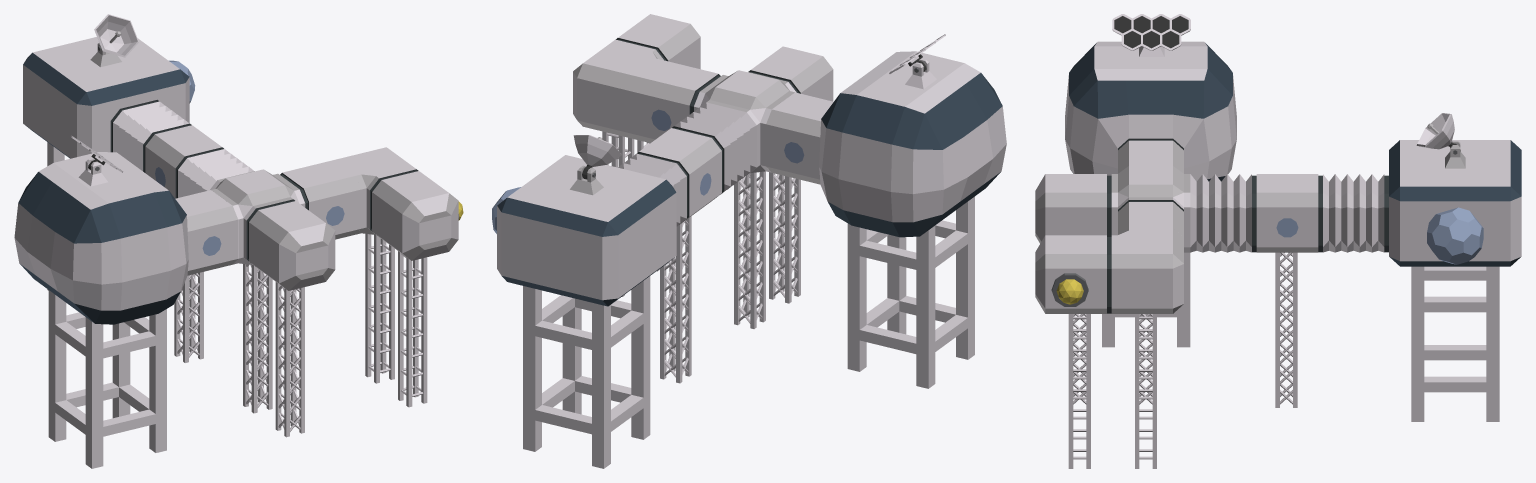
Rendered from demo 01.fbx.
The picture shows the model from 3 angles, left to right: view 1: azimuth 30°, elevation 25°; view 2: azimuth 150°, elevation 25°; view 3: azimuth 270°, elevation 25°; orthographic projection. The views are drawn at different scales.
Parts seen in each view (by area): view 1: Room_04_Corridor_02_Outside, Pillar_01.003, Room_03_Corridor_02, Corridor_02_End_Outside.001, Corridor_02_End_Outside, Pillar_02, Pillar_02.003, Pillar_03.009, Corridor_02_W.001, Pillar_03.000, Corridor_02_W, Corridor_02_Cross_Vault_Outside (+7 smaller); view 2: Room_04_Corridor_02_Outside, Room_03_Corridor_02, Pillar_01, Pillar_01.003, Corridor_02_L, Pillar_02.003, Corridor_02_W, Corridor_02_W.001, Pillar_02.001, Pillar_02, Corridor_02_W.002, Corridor_02_Joint_Outside (+8 smaller); view 3: Room_04_Corridor_02_Outside, Room_03_Corridor_02, Pillar_01, Corridor_02_L, Corridor_02_W.002, Corridor_02_Joint_Outside, Corridor_02_End_Outside, Corridor_02_Joint_Outside.001, Corridor_02_End_Outside.001, Corridor_02_Cross_Vault_Outside, Pillar_02.001, Dome_01 (+10 smaller).
Boxes of the visible parts, bbox=[...] form: Room_04_Corridor_02_Outside: bbox=[14, 152, 188, 324]; Pillar_01.003: bbox=[48, 290, 166, 468]; Room_03_Corridor_02: bbox=[23, 37, 189, 158]; Corridor_02_End_Outside.001: bbox=[246, 199, 335, 290]; Corridor_02_End_Outside: bbox=[370, 169, 458, 260]; Pillar_02: bbox=[275, 282, 304, 437]; Pillar_02.003: bbox=[243, 264, 272, 413]; Pillar_03.009: bbox=[398, 251, 427, 407]; Corridor_02_W.001: bbox=[280, 160, 361, 239]; Pillar_03.000: bbox=[365, 233, 394, 383]; Corridor_02_W: bbox=[175, 190, 237, 275]; Corridor_02_Cross_Vault_Outside: bbox=[210, 169, 305, 264]; Room_04_Corridor_02_Outside: bbox=[819, 51, 1006, 237]; Room_03_Corridor_02: bbox=[497, 155, 676, 306]; Pillar_01: bbox=[523, 276, 650, 468]; Pillar_01.003: bbox=[847, 196, 974, 388]; Corridor_02_L: bbox=[573, 39, 663, 140]; Pillar_02.003: bbox=[734, 171, 765, 328]; Corridor_02_W: bbox=[766, 92, 833, 184]; Corridor_02_W.001: bbox=[633, 60, 720, 142]; Pillar_02.001: bbox=[660, 216, 691, 383]; Pillar_02: bbox=[769, 172, 800, 303]; Corridor_02_W.002: bbox=[637, 128, 721, 224]; Corridor_02_Joint_Outside: bbox=[672, 102, 756, 197]; Room_04_Corridor_02_Outside: bbox=[1065, 41, 1236, 181]; Room_03_Corridor_02: bbox=[1389, 140, 1521, 266]; Pillar_01: bbox=[1411, 266, 1499, 421]; Corridor_02_L: bbox=[1111, 228, 1183, 313]; Corridor_02_W.002: bbox=[1256, 174, 1322, 252]; Corridor_02_Joint_Outside: bbox=[1190, 174, 1256, 252]; Corridor_02_End_Outside: bbox=[1035, 235, 1111, 313]; Corridor_02_Joint_Outside.001: bbox=[1323, 174, 1388, 252]; Corridor_02_End_Outside.001: bbox=[1035, 174, 1111, 243]; Corridor_02_Cross_Vault_Outside: bbox=[1111, 166, 1190, 252]; Pillar_02.001: bbox=[1275, 252, 1297, 407]; Dome_01: bbox=[1427, 207, 1483, 264].
Size of what is drawn, in the model's own units: 2045 by 1527 by 2201.
